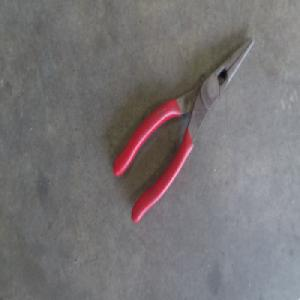Pliers: (113, 35, 253, 220)
